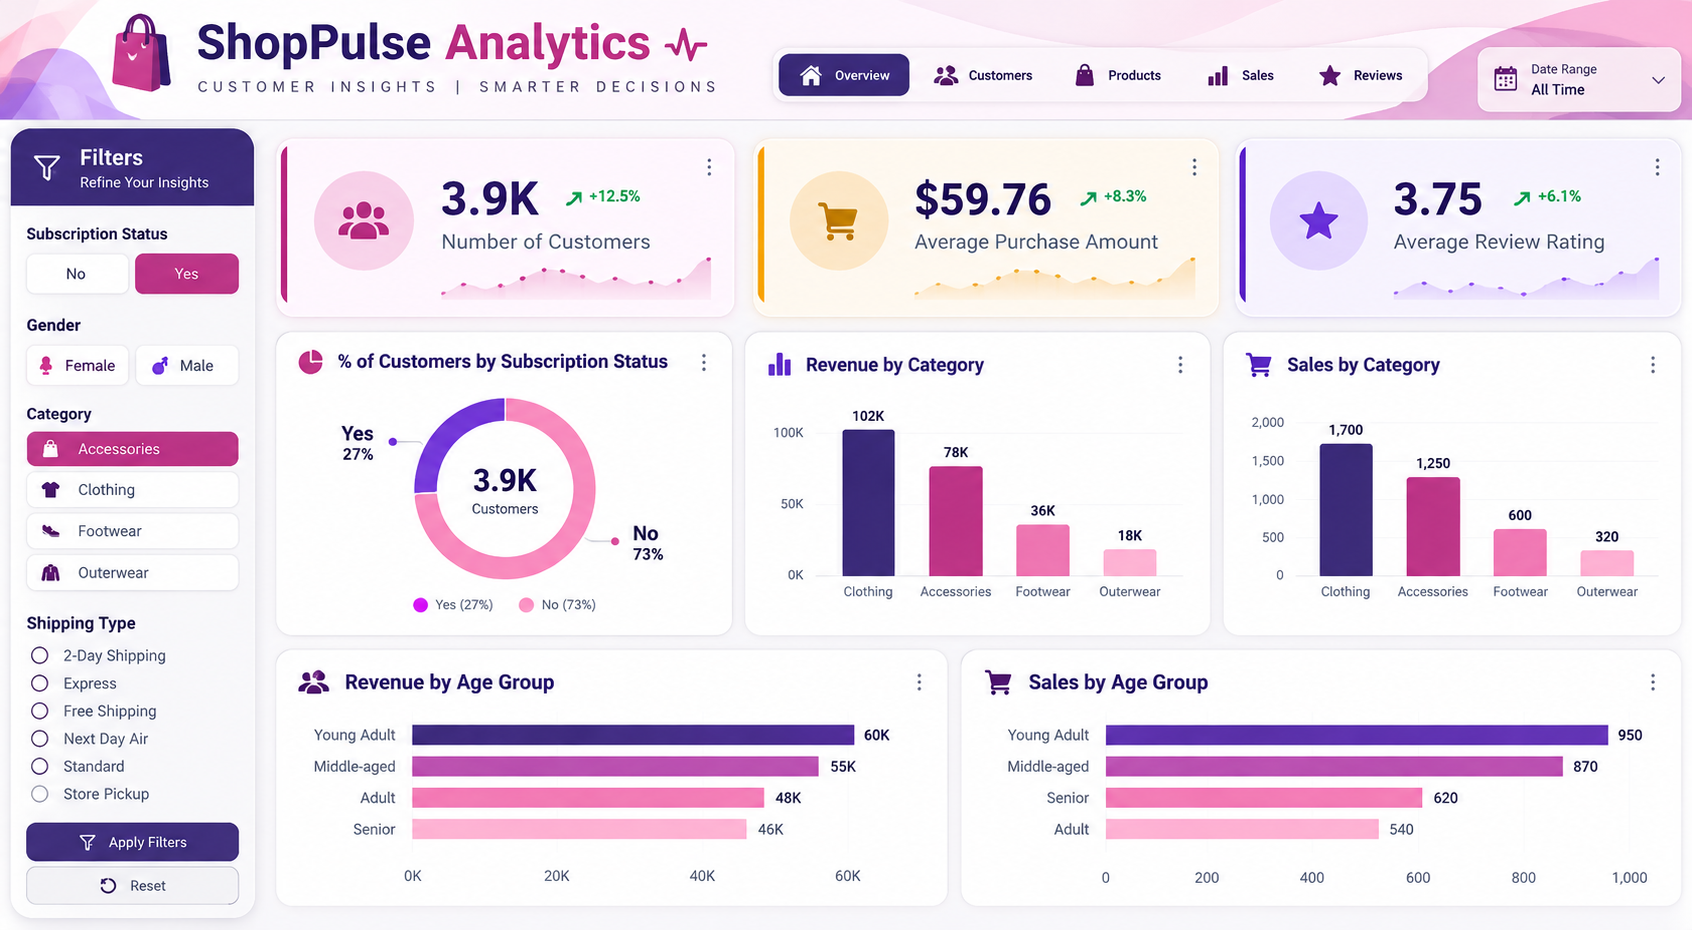

What the dashboard file says about the page in this screenshot:
{"tool":"powerbi","page":{"name":"Page 1","canvas":[1500,820],"ordinal":0},"visuals":[{"type":"cardVisual","fields":{"Data":["public customer.Number of Customers","public customer.Average Purchase Amount","public customer.Average Review Rating"]},"box":[230.7,102.3,1269.9,182.6],"z":0},{"type":"shape","box":[2,0,1498.6,102.3],"z":1000},{"type":"textbox","box":[2,14,1919.9,88.3],"z":2000},{"type":"shape","box":[230.7,272.8,421.3,300.9],"z":3000},{"type":"donutChart","title":"% of Customers by Subscription Status","fields":{"Category":["public customer.subscription_status"],"Y":["CountNonNull(public customer.customer_id)"]},"box":[250.8,292.9,383.2,262.8],"z":4000},{"type":"shape","box":[652,272.8,431.3,300.9],"z":5000},{"type":"shape","box":[1083.3,272.8,417.3,300.9],"z":6000},{"type":"clusteredColumnChart","title":"Revenue by Category","fields":{"Category":["public customer.category"],"Y":["Sum(public customer.purchase_amount)"]},"box":[674.1,292.9,389.2,262.8],"z":7000},{"type":"clusteredColumnChart","title":"Sales by Category","fields":{"Category":["public customer.category"],"Y":["CountNonNull(public customer.customer_id)"]},"box":[1097.4,292.9,387.2,262.8],"z":8000},{"type":"shape","box":[2,102.3,228.7,718.2],"z":9000},{"type":"advancedSlicerVisual","fields":{"Values":["public customer.subscription_status"]},"box":[22.1,142.4,188.6,78.2],"z":10000},{"type":"advancedSlicerVisual","fields":{"Values":["public customer.gender"]},"box":[22.1,236.7,188.6,76.2],"z":11000},{"type":"advancedSlicerVisual","fields":{"Values":["public customer.category"]},"box":[22.1,333,188.6,198.6],"z":12000},{"type":"listSlicer","fields":{"Values":["public customer.shipping_type"]},"box":[22.1,531.6,188.6,256.8],"z":13000},{"type":"shape","box":[230.7,573.8,421.3,246.8],"z":14000},{"type":"shape","box":[230.7,573.8,636,246.8],"z":15000},{"type":"shape","box":[868.7,573.8,631.9,246.8],"z":16000},{"type":"clusteredBarChart","title":"Revenue by Age Group ","fields":{"Category":["public customer.age_group"],"Y":["Sum(public customer.purchase_amount)"]},"box":[250.8,591.8,595.8,210.6],"z":17000},{"type":"clusteredBarChart","title":"Sales by Age Group ","fields":{"Category":["public customer.age_group"],"Y":["CountNonNull(public customer.customer_id)"]},"box":[886.7,591.8,595.8,210.6],"z":18000}]}

Visuals, with their boxes in screenshot pixels (x1, y1, x2, y2), scaled from the page's 1500x820 canvas onto the 1692x930 screenshot:
cardVisual - public customer.Number of Customers x public customer.Average Purchase Amount: (260,116,1691,323)
shape: (2,0,1691,116)
textbox: (2,16,1691,116)
shape: (260,309,735,651)
"% of Customers by Subscription Status" donutChart: (283,332,715,630)
shape: (735,309,1222,651)
shape: (1222,309,1691,651)
"Revenue by Category" clusteredColumnChart: (760,332,1199,630)
"Sales by Category" clusteredColumnChart: (1238,332,1675,630)
shape: (2,116,260,929)
advancedSlicerVisual - public customer.subscription_status: (25,162,238,250)
advancedSlicerVisual - public customer.gender: (25,268,238,355)
advancedSlicerVisual - public customer.category: (25,378,238,603)
listSlicer - public customer.shipping_type: (25,603,238,894)
shape: (260,651,735,929)
shape: (260,651,978,929)
shape: (980,651,1691,929)
"Revenue by Age Group " clusteredBarChart: (283,671,955,910)
"Sales by Age Group " clusteredBarChart: (1000,671,1672,910)
